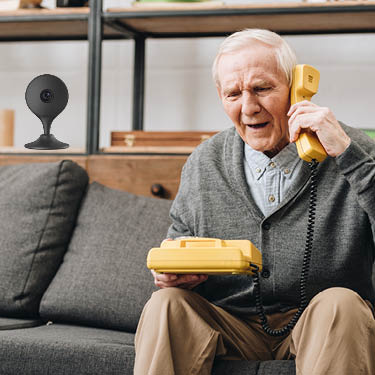without_mask: (218, 61, 290, 154)
